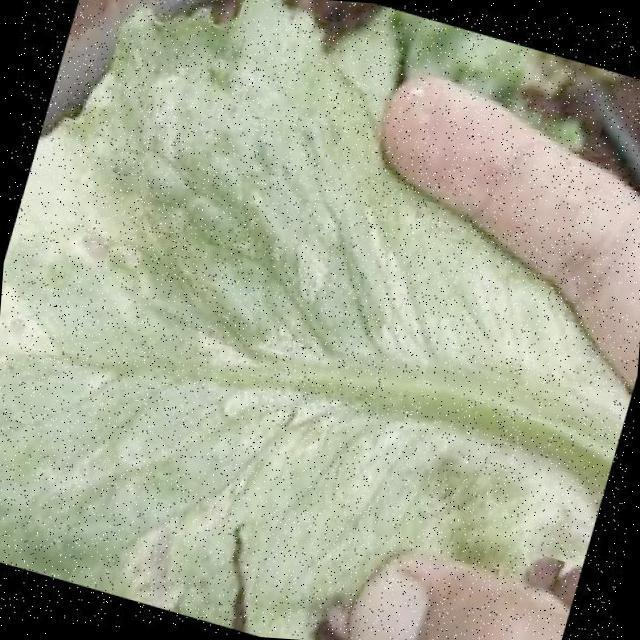Downy_Mildew: (0, 131, 336, 494)
